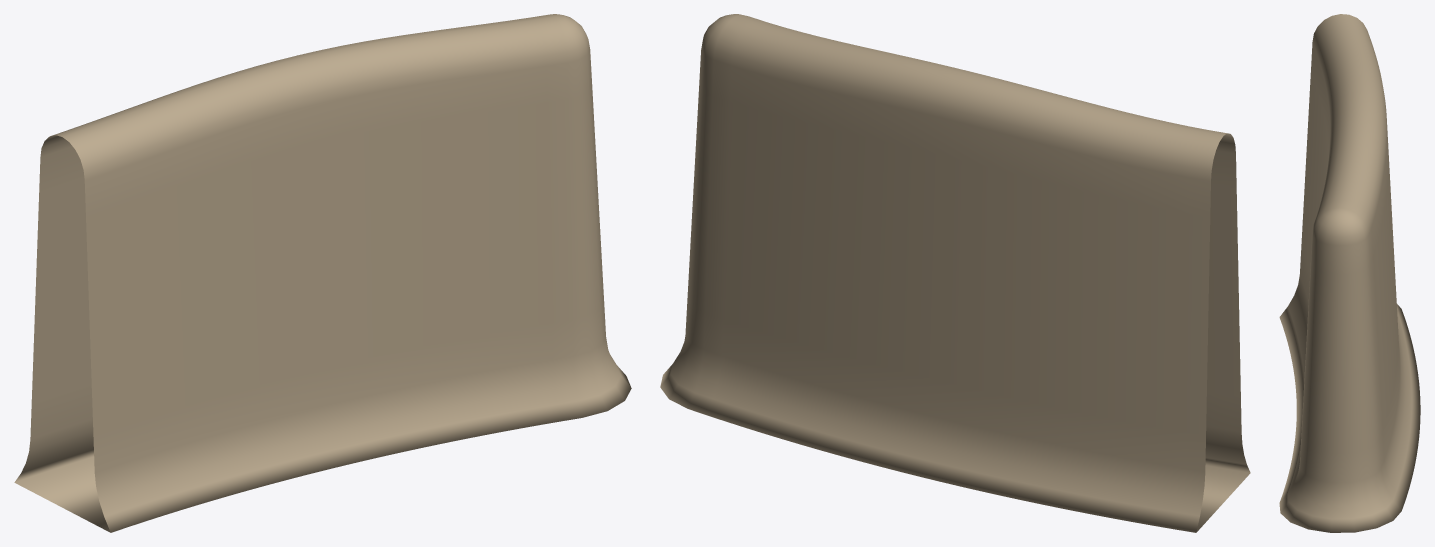
File: KFB_Wall_curved_ring_r4_capA.r4.glb
The picture shows the model from 3 angles, left to right: view 1: azimuth 30°, elevation 25°; view 2: azimuth 150°, elevation 25°; view 3: azimuth 270°, elevation 25°; orthographic projection. The views are drawn at different scales.
Parts seen in each view (by area): view 1: KFB_Wall_curved_ring_r4_capA; view 2: KFB_Wall_curved_ring_r4_capA; view 3: KFB_Wall_curved_ring_r4_capA.
Boxes of the visible parts, x1,y1,x2,y2 form: KFB_Wall_curved_ring_r4_capA: [14, 14, 631, 532]; KFB_Wall_curved_ring_r4_capA: [660, 14, 1250, 532]; KFB_Wall_curved_ring_r4_capA: [1279, 14, 1420, 532].
Bounding box in the file's own units: 5.78 × 3.69 × 1.54.
